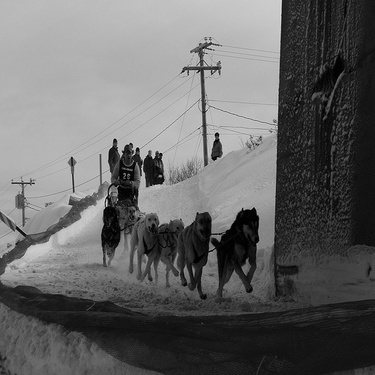dog: (209, 201, 261, 296), (174, 202, 213, 302), (126, 213, 161, 281), (153, 213, 184, 287), (99, 205, 122, 266), (124, 204, 143, 248), (115, 195, 134, 230)
